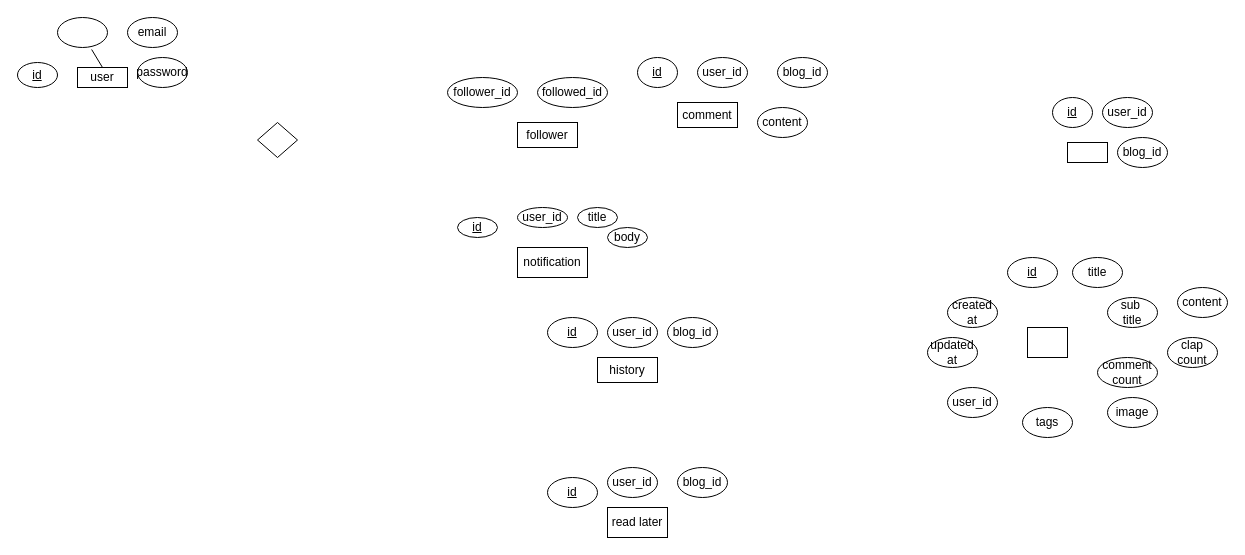
The diagram is 1245 pixels wide and 555 high, and some of its shapes have lost their labels. Each missing label, with the centre of its shape:
Blog: point (1047, 342)
clap: point (1087, 152)
has: point (277, 140)
name: point (82, 32)
